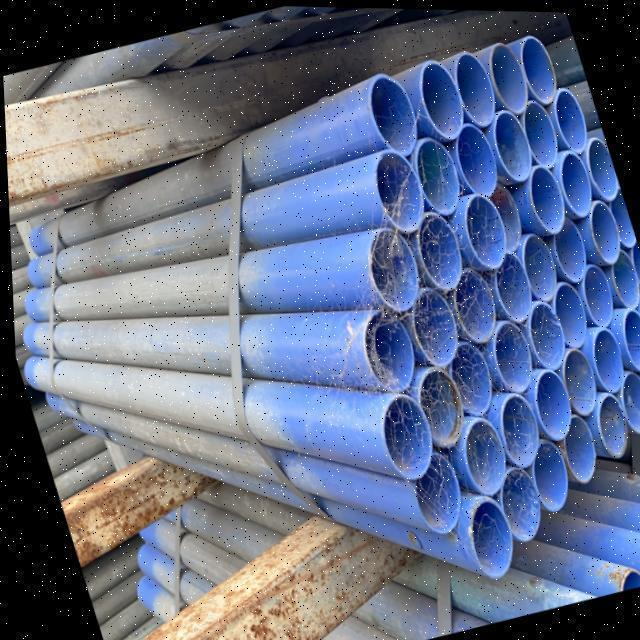pipe: (356, 310, 411, 396), (397, 288, 454, 369), (404, 451, 457, 537), (374, 398, 425, 483), (365, 225, 416, 309), (365, 71, 415, 153), (444, 330, 489, 420), (415, 60, 464, 142), (446, 50, 494, 133), (369, 157, 420, 235), (410, 368, 458, 450), (450, 418, 498, 498), (408, 212, 457, 289), (446, 268, 492, 350), (491, 462, 537, 542), (460, 497, 505, 576), (457, 193, 503, 270), (550, 399, 592, 483), (526, 421, 565, 510), (449, 122, 493, 200), (408, 140, 453, 215), (519, 372, 564, 447), (489, 106, 531, 185), (485, 320, 531, 392), (491, 394, 532, 472), (517, 93, 555, 177), (552, 350, 595, 423), (547, 207, 583, 291), (520, 303, 562, 374), (490, 251, 529, 325), (514, 232, 554, 303), (547, 279, 584, 355), (516, 32, 557, 100), (523, 167, 562, 236), (483, 182, 517, 255), (588, 388, 624, 455), (574, 261, 611, 326), (584, 193, 616, 267), (584, 330, 619, 396), (548, 89, 584, 153), (488, 41, 522, 106), (554, 155, 586, 218), (581, 136, 613, 199), (612, 359, 640, 430), (604, 248, 635, 310), (602, 187, 632, 247), (615, 310, 640, 375), (622, 234, 640, 297), (627, 284, 640, 355)
